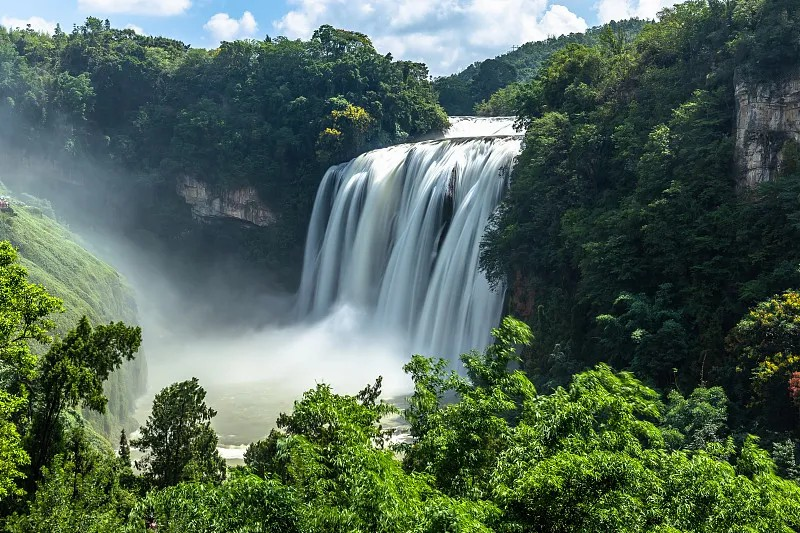Huangguoshu: (303, 116, 530, 373)
